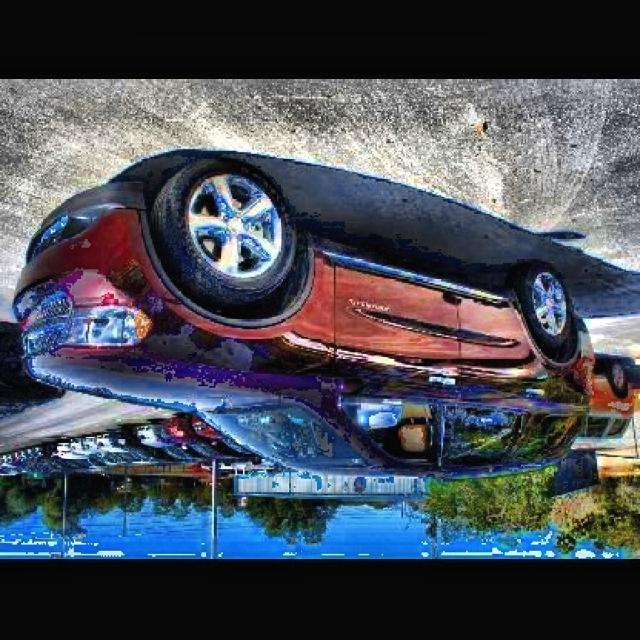maroon: (3, 185, 640, 492)
